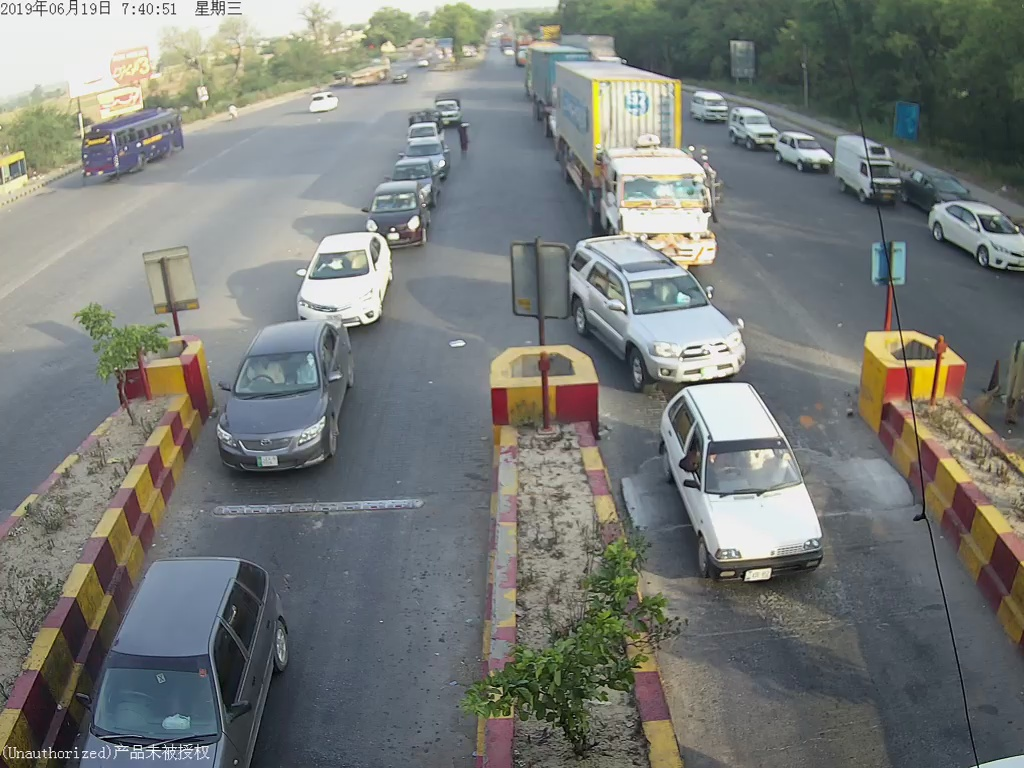Cat-1: (660, 392, 838, 600), (561, 246, 773, 380), (216, 322, 365, 470), (295, 236, 390, 312)
Cat-5: (558, 61, 706, 234)
